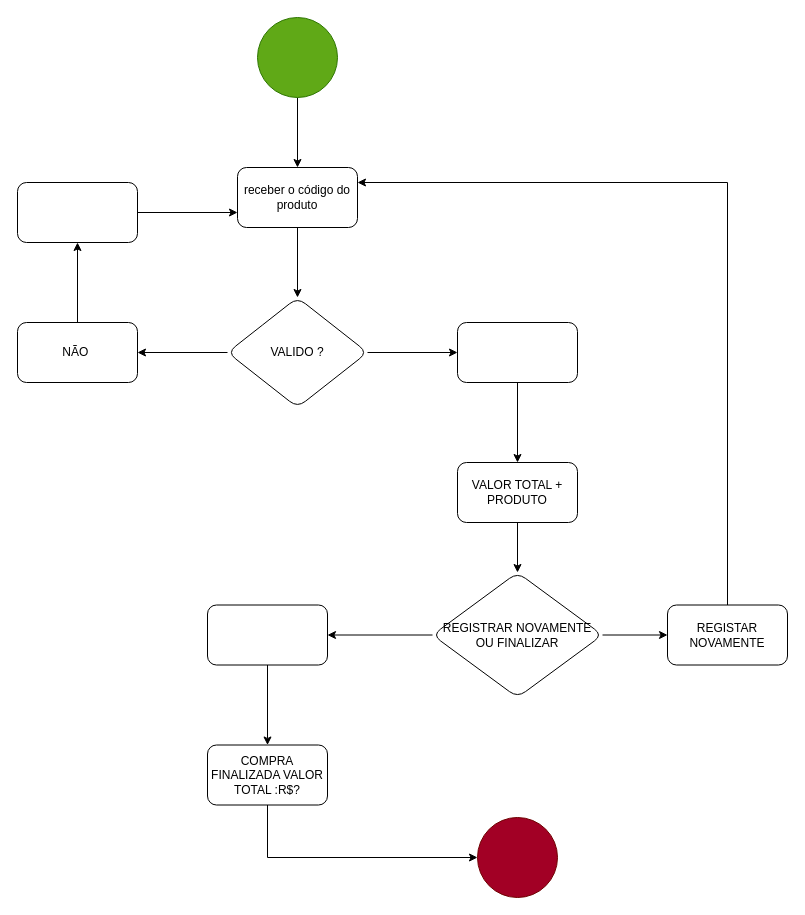
This 805x915 diagram has some shape labels left out. The shapes that lost their labels are listed below. From the top down, each one's centre as x and y in pixels, then its label:
the point at 77,212: ERRO! TENTAR NOVAMENTE
the point at 517,352: SIM
the point at 267,634: FINALIZAR
